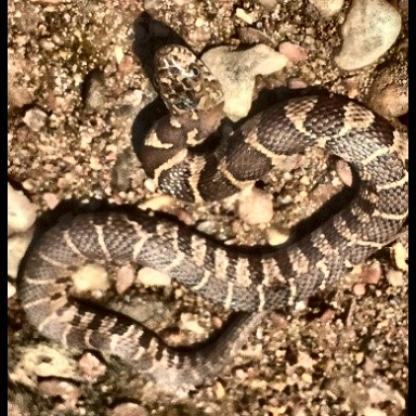Snake: (24, 8, 412, 412)
